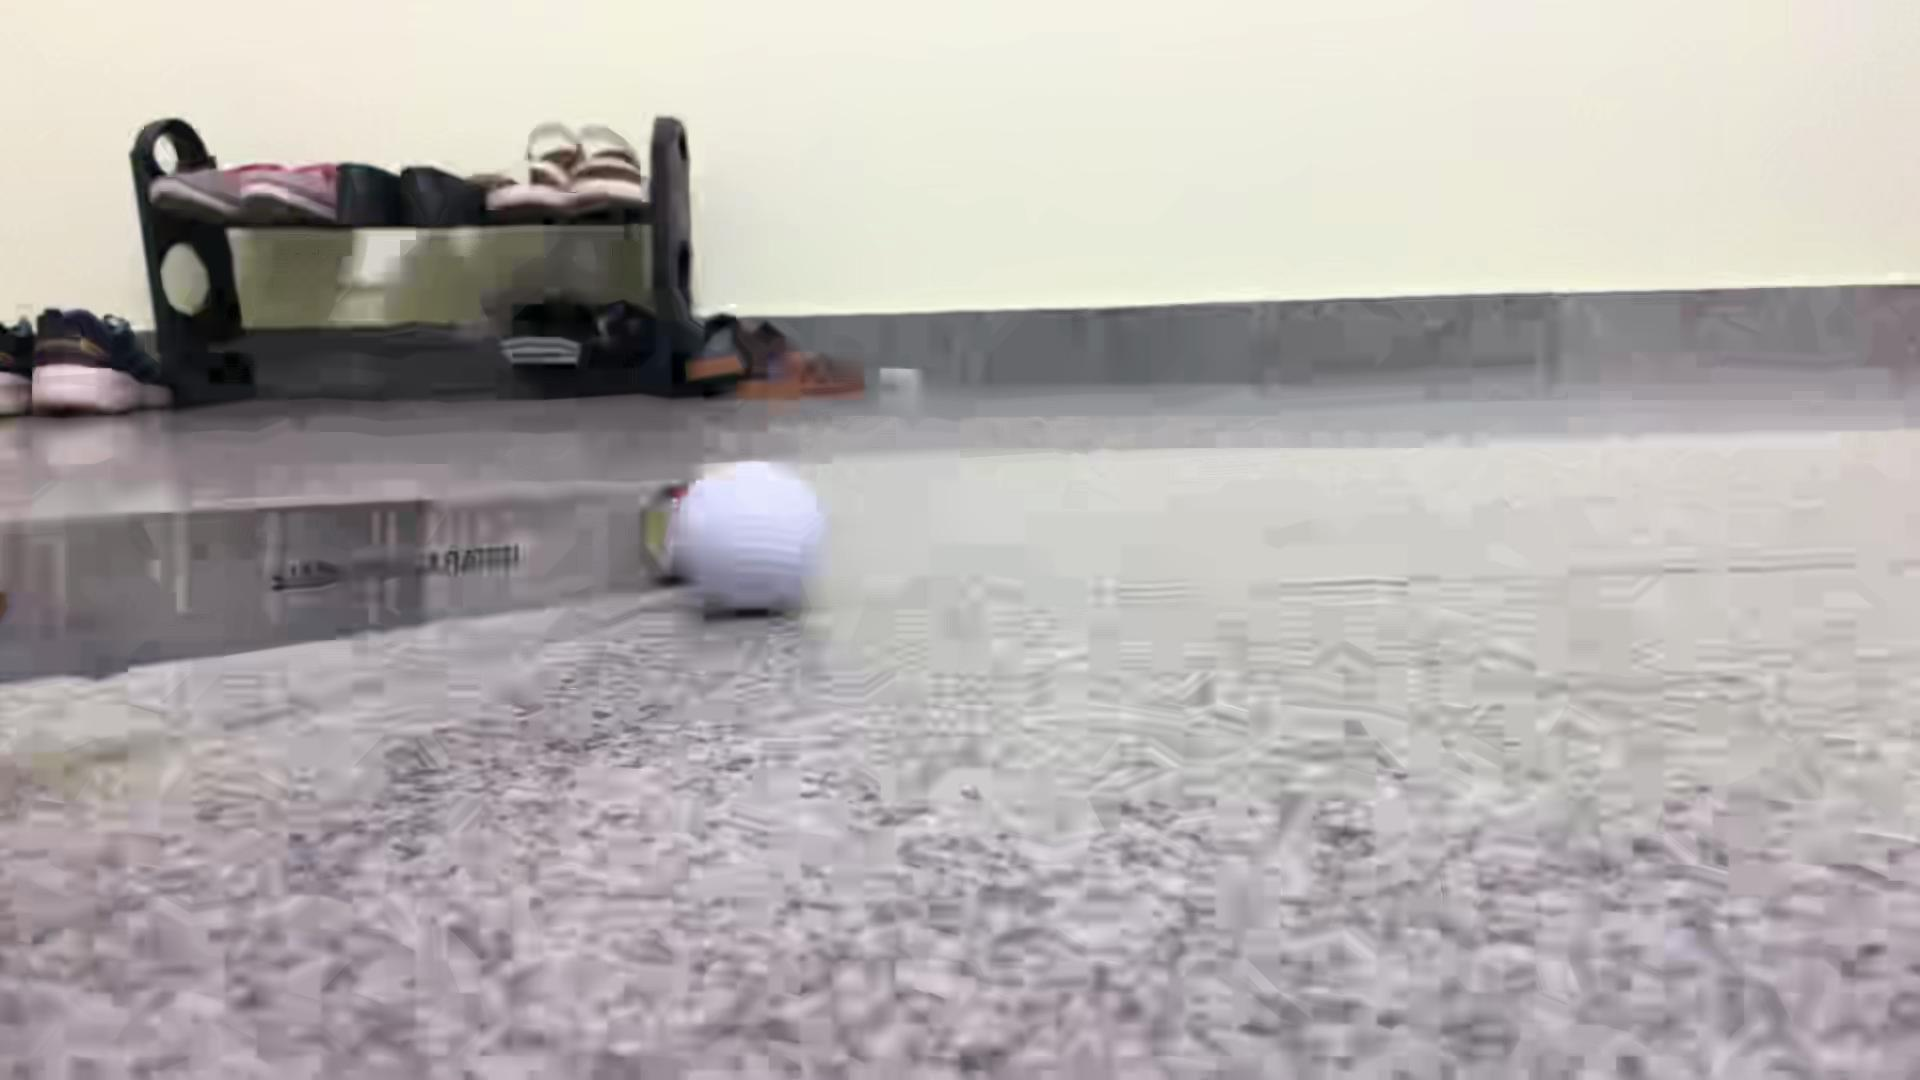golfball: (674, 465, 824, 611)
